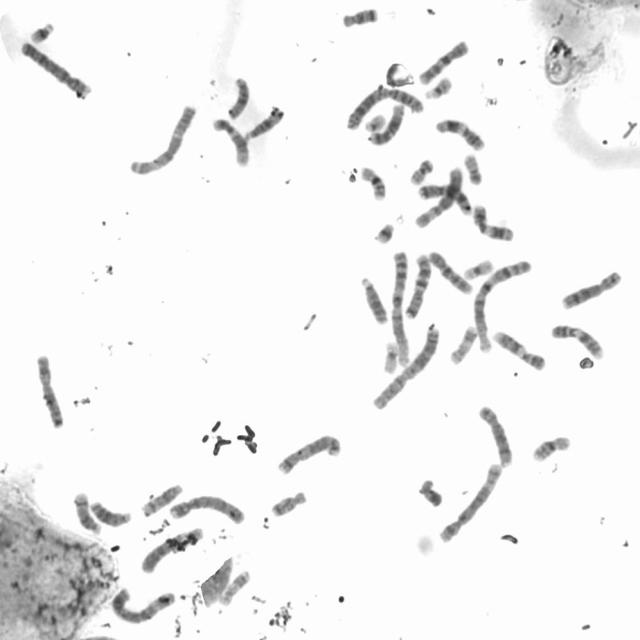A1: (471, 255, 534, 355), (387, 245, 414, 368)
A2: (369, 321, 443, 411), (342, 84, 427, 132)
A3: (126, 100, 199, 176), (108, 583, 178, 625)
B4: (17, 36, 94, 99), (166, 491, 247, 525)
B5: (435, 458, 504, 544), (274, 430, 344, 476)
C10: (415, 35, 471, 86), (426, 246, 475, 296)
C11: (469, 200, 517, 243), (433, 114, 487, 152)
C12: (208, 113, 250, 167), (365, 100, 406, 146)
C6: (410, 161, 464, 229), (137, 523, 205, 575)
C7: (402, 249, 433, 320), (414, 180, 472, 216)
C8: (558, 266, 624, 311), (474, 401, 516, 468)
C9: (489, 326, 547, 372), (548, 319, 606, 361)
D13: (357, 272, 390, 326), (87, 496, 132, 528)
D14: (138, 479, 185, 518), (70, 488, 103, 536)
D15: (241, 102, 286, 142), (224, 73, 252, 120)
E16: (529, 431, 573, 463), (357, 162, 388, 202)
E17: (216, 566, 252, 607), (447, 321, 478, 366)
E18: (268, 487, 308, 518), (338, 2, 381, 28)
F19: (460, 254, 496, 282), (380, 337, 400, 374)
F20: (406, 154, 436, 186), (461, 149, 485, 186)
G21: (27, 16, 56, 44), (372, 217, 397, 245)
G22: (422, 72, 454, 100), (362, 109, 387, 133)
X: (32, 349, 66, 430)
Y: (416, 474, 444, 508)
